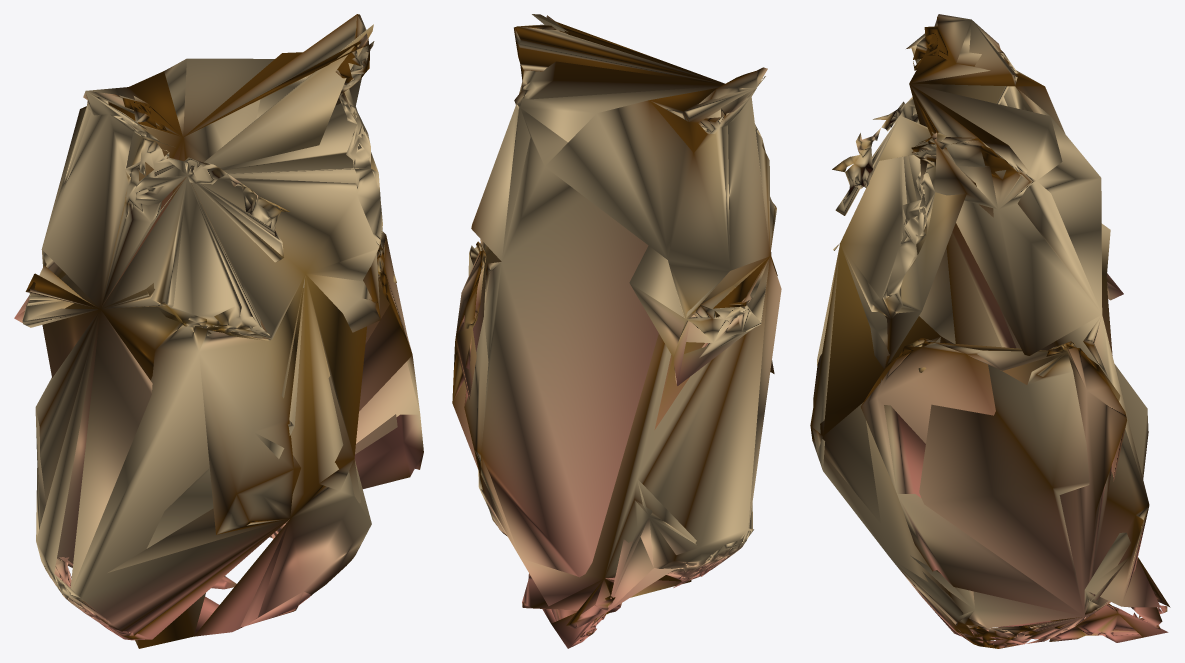
Rendered from gen3d-brown-owl-lod0.glb.
3 views of the same model, side by side, from view 1: azimuth 30°, elevation 25°; view 2: azimuth 150°, elevation 25°; view 3: azimuth 270°, elevation 25° (orthographic). The views are drawn at different scales.
Parts seen in each view (by area): view 1: part_0; view 2: part_0; view 3: part_0.
Part boxes in pixels (x1,y1,x2,y2): part_0: (14,14,423,648); part_0: (452,14,781,648); part_0: (810,14,1170,648).
Bounding box in the file's own units: 0.5963 × 1 × 0.5729.
